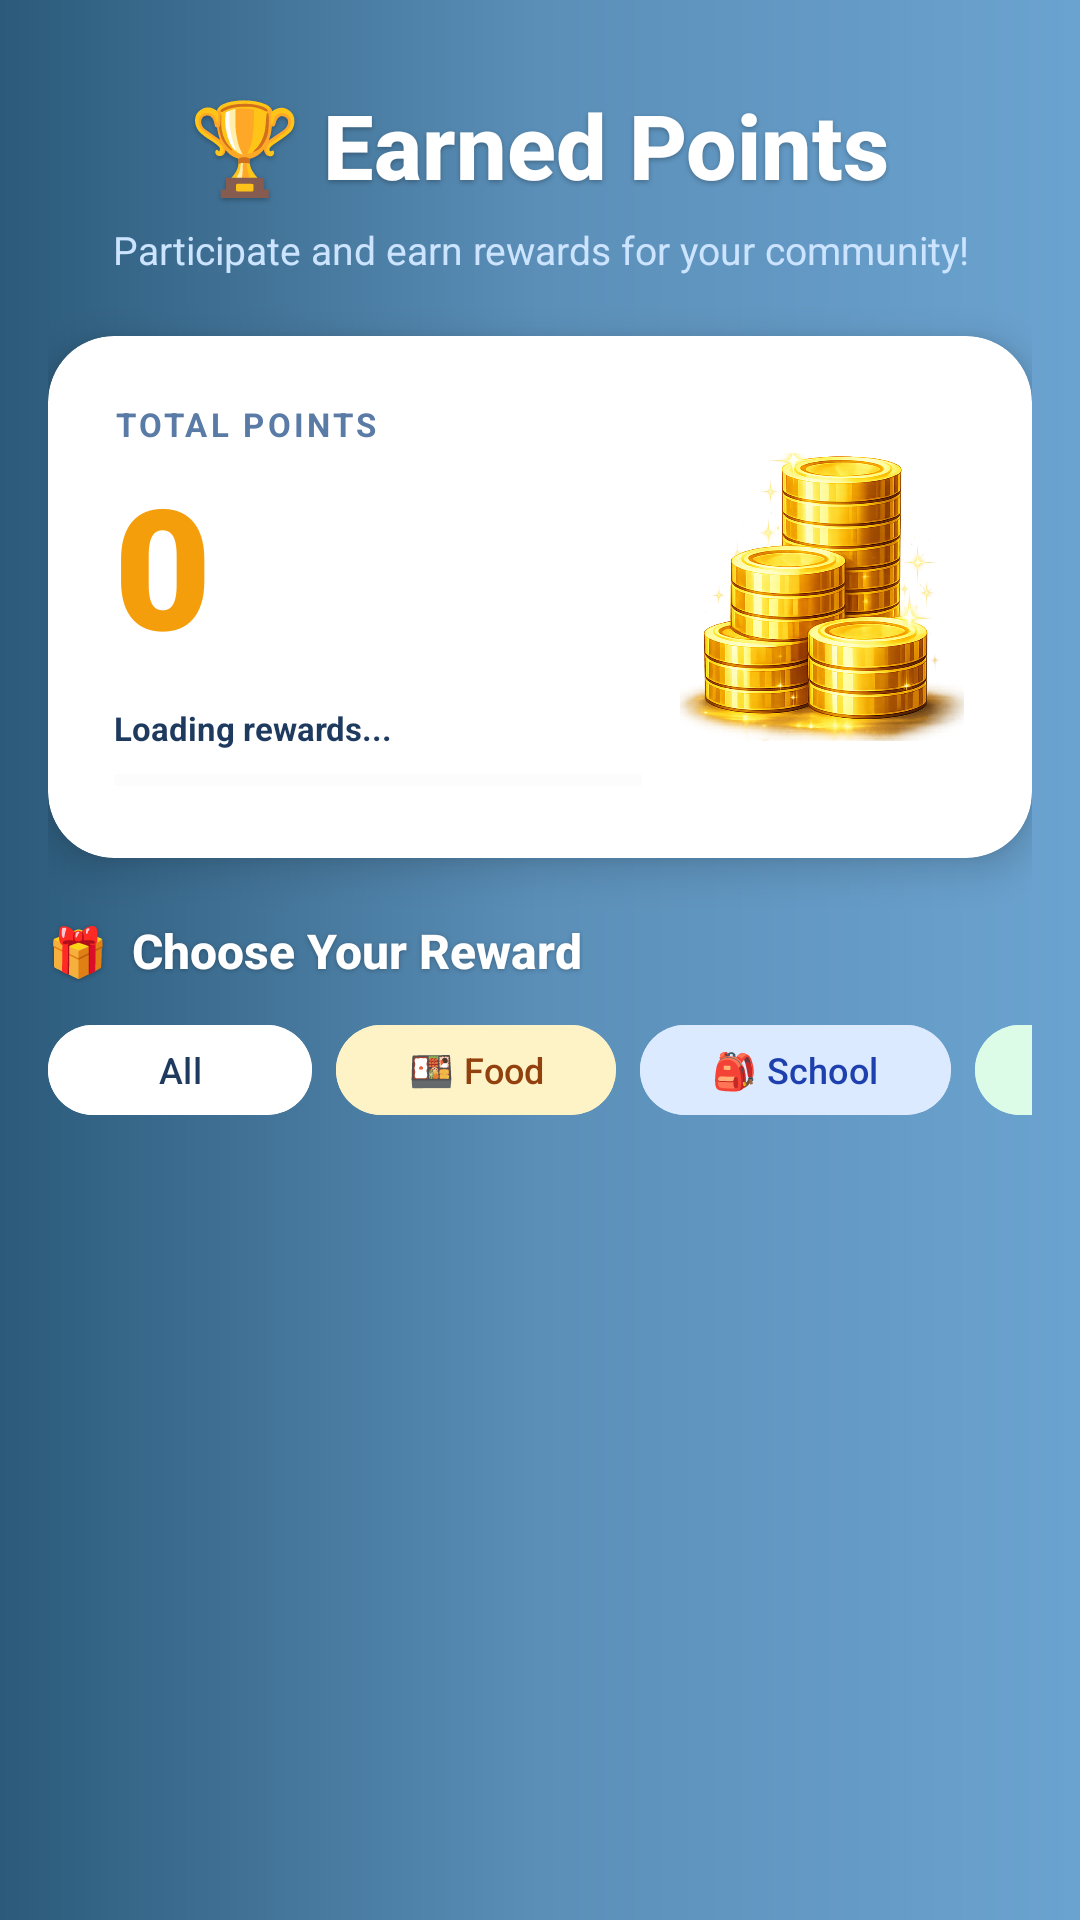

Icons on this 1080 × 1920 Android screen, each with the point to tap as point (x, y):
reward coins stack: point (822, 597)
